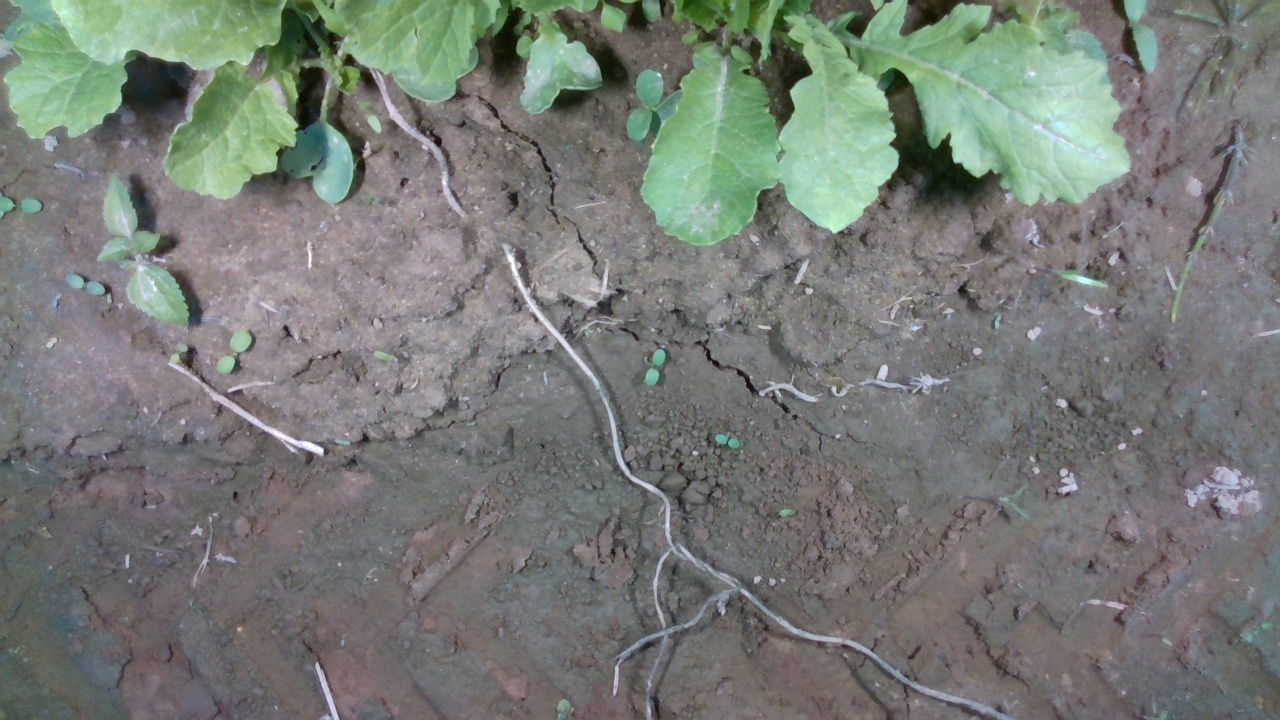weed: (213, 329, 254, 377), (63, 272, 106, 296), (643, 347, 667, 387), (169, 342, 190, 366), (713, 432, 742, 449), (44, 335, 59, 350), (50, 291, 62, 307), (105, 291, 112, 304)
